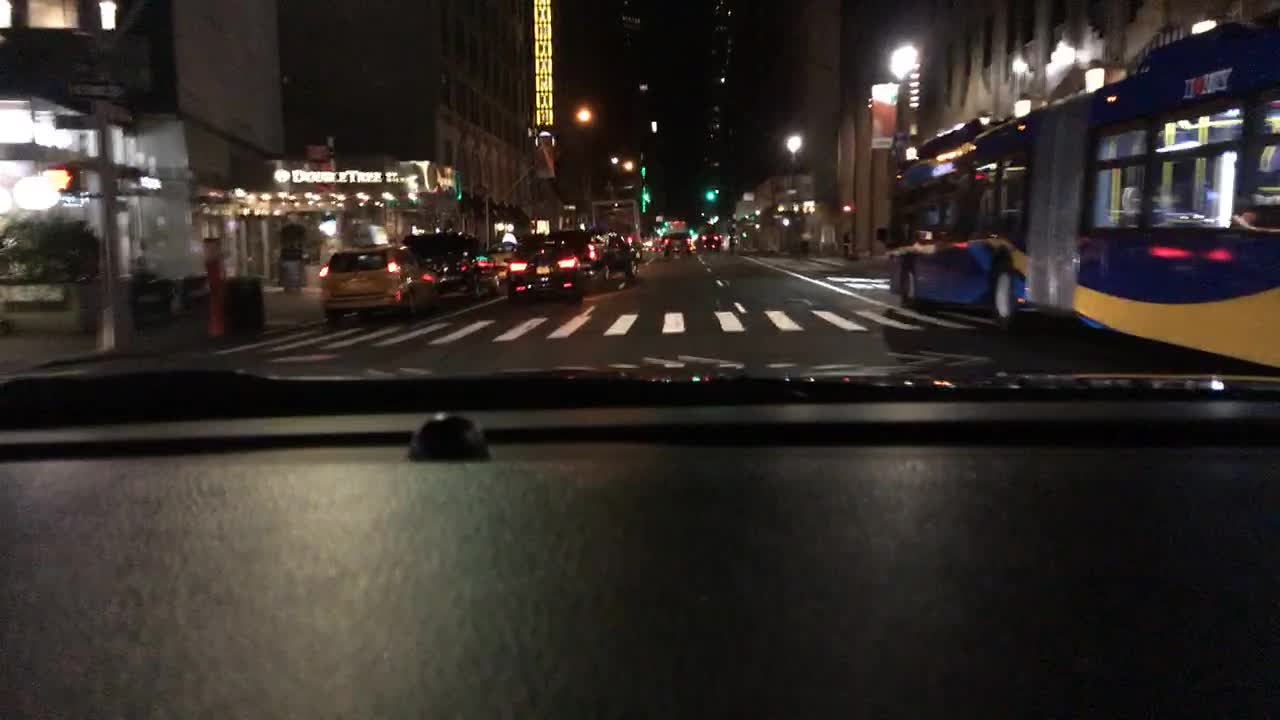bus: (875, 24, 1278, 372)
car: (320, 240, 442, 322), (402, 229, 501, 298), (507, 229, 592, 301), (562, 228, 612, 281), (597, 225, 639, 272), (489, 231, 524, 280), (661, 231, 693, 255), (624, 234, 645, 264), (699, 231, 721, 252), (648, 240, 664, 252)
person: (276, 211, 311, 296), (797, 225, 811, 260), (721, 229, 736, 258), (840, 229, 852, 254)
traffic light: (44, 162, 79, 198), (638, 189, 652, 205), (705, 187, 717, 199)
traffic sign: (67, 75, 126, 100), (55, 112, 97, 131)
